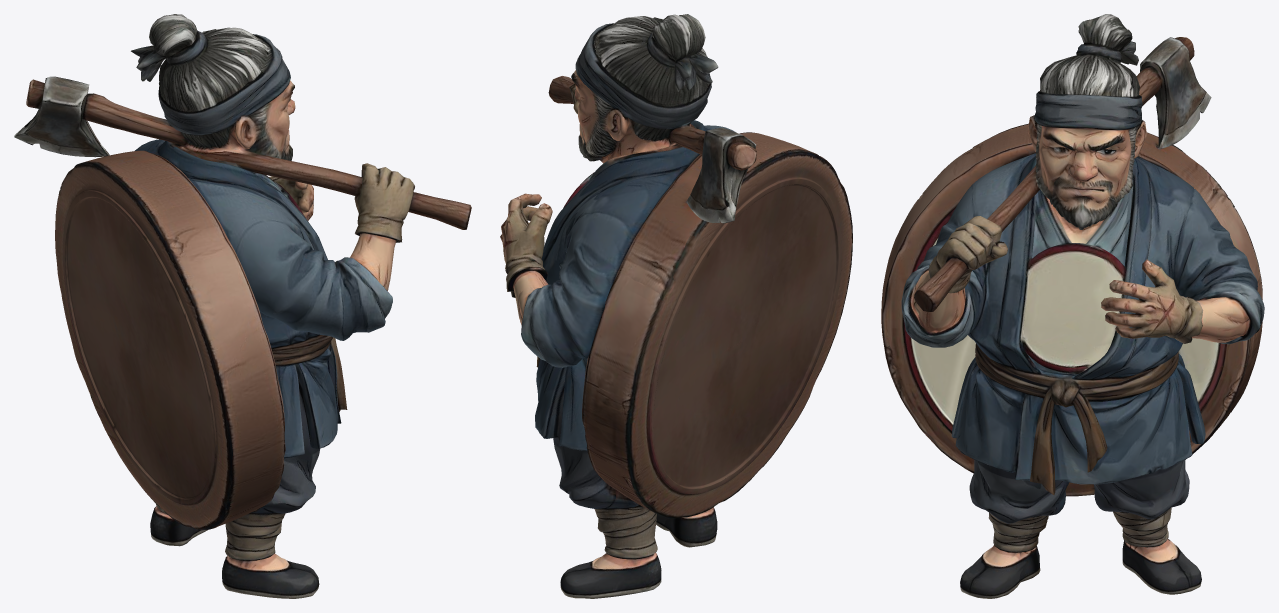
Rendered from p_b1p_chenbo.glb.
3 renders of one model, left to right at view 1: azimuth 30°, elevation 25°; view 2: azimuth 150°, elevation 25°; view 3: azimuth 270°, elevation 25°, orthographic. The views are drawn at different scales.
Visible parts, largest first — view 1: tripo_node_03776542-1488-431d-8106-10af5fcd8084; view 2: tripo_node_03776542-1488-431d-8106-10af5fcd8084; view 3: tripo_node_03776542-1488-431d-8106-10af5fcd8084.
Part boxes in pixels (left/top/right/bottom): tripo_node_03776542-1488-431d-8106-10af5fcd8084: left=14, top=14, right=471, bottom=598; tripo_node_03776542-1488-431d-8106-10af5fcd8084: left=500, top=14, right=852, bottom=598; tripo_node_03776542-1488-431d-8106-10af5fcd8084: left=881, top=14, right=1264, bottom=598.
Size of the model in its own units: 0.605 by 0.9792 by 0.6258.
Materials: 1 (1 with a texture image).
